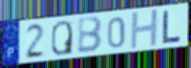0: (106, 15, 128, 49)
2: (23, 23, 47, 60)
B: (77, 16, 104, 56)
H: (130, 8, 160, 51)
L: (161, 10, 182, 45)
Q: (50, 20, 74, 57)
